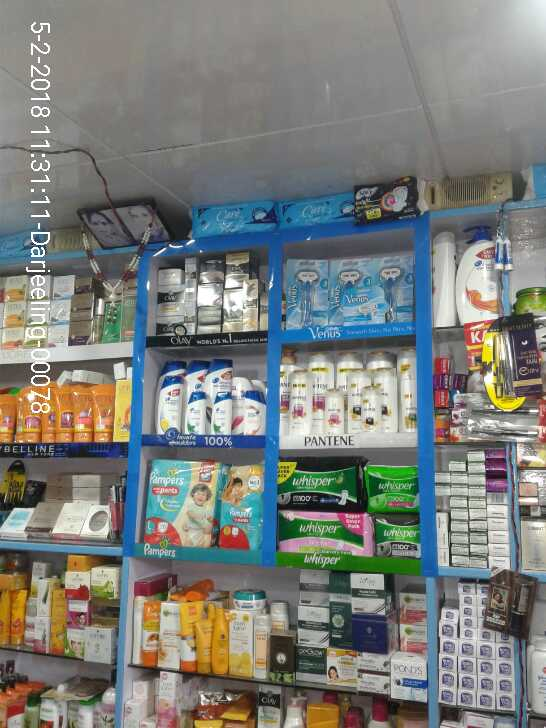venus: (380, 253, 418, 325), (289, 258, 327, 325), (343, 290, 377, 322), (335, 260, 369, 286)
